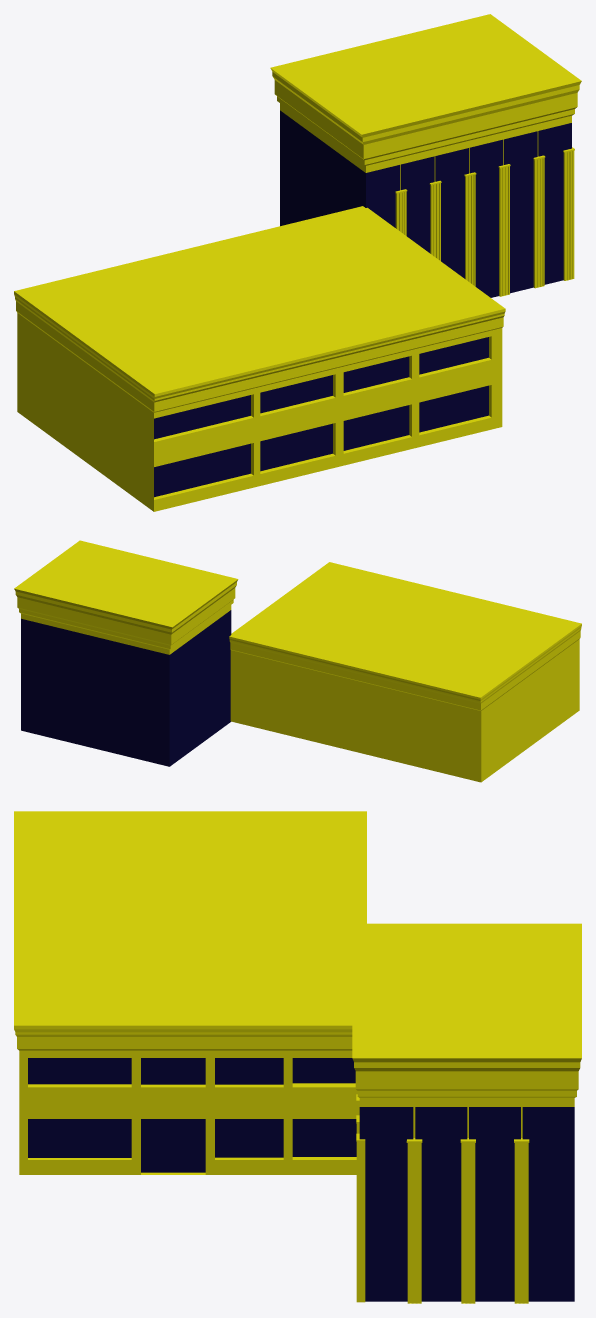
File: edificio.fbx
3 views of the same model, one above another, from view 1: azimuth 30°, elevation 25°; view 2: azimuth 150°, elevation 25°; view 3: azimuth 270°, elevation 25° (orthographic). The views are drawn at different scales.
Visible parts, largest first — view 1: Cube.001, Cube; view 2: Cube.001, Cube; view 3: Cube.001, Cube.
Part boxes in pixels (x1,y1,x2,y2): Cube.001: (14,206,505,511); Cube: (270,14,581,297); Cube.001: (229,562,581,782); Cube: (14,540,238,766); Cube.001: (14,811,366,1174); Cube: (352,923,581,1303).
Bounding box in the file's own units: 19383 × 6615 × 13532.
